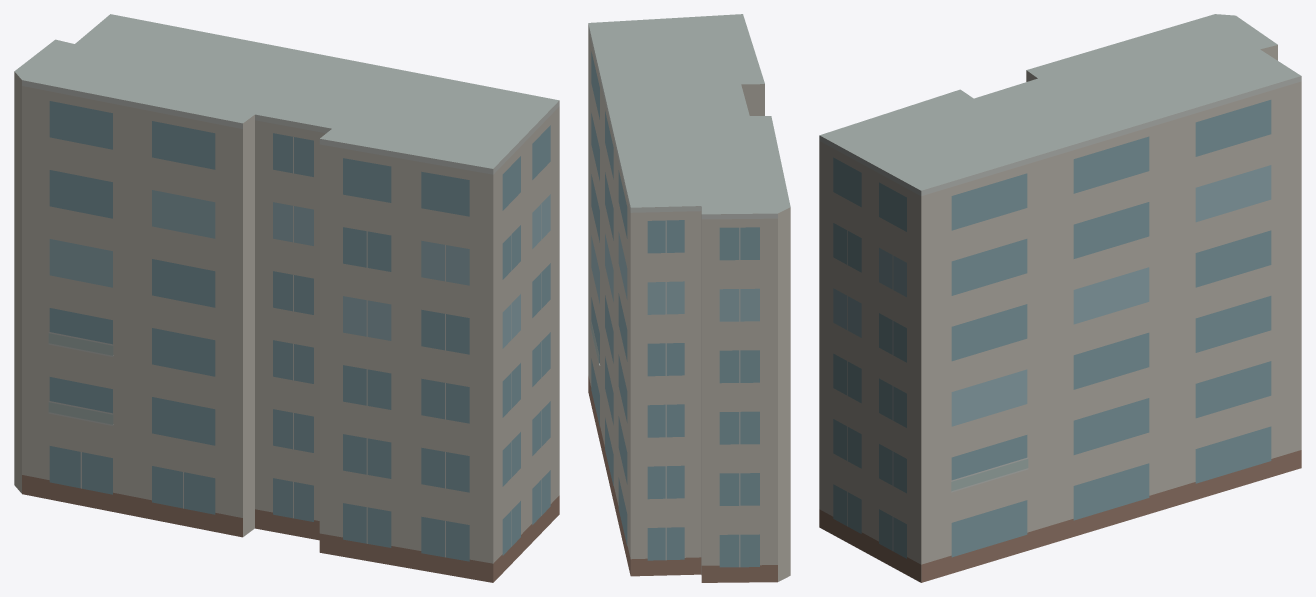
The model's file is survey-upis-32972540.glb.
3 renders of one model, left to right at view 1: azimuth 30°, elevation 25°; view 2: azimuth 150°, elevation 25°; view 3: azimuth 270°, elevation 25°, orthographic. The views are drawn at different scales.
Visible parts, largest first — view 1: survey-upis-32972540.tmp; view 2: survey-upis-32972540.tmp; view 3: survey-upis-32972540.tmp.
Part boxes in pixels (x1,y1,x2,y2): survey-upis-32972540.tmp: (14, 14, 559, 582); survey-upis-32972540.tmp: (588, 14, 790, 582); survey-upis-32972540.tmp: (819, 14, 1301, 582).
Size of the model in its own units: 16.93 by 17.5 by 19.51.
